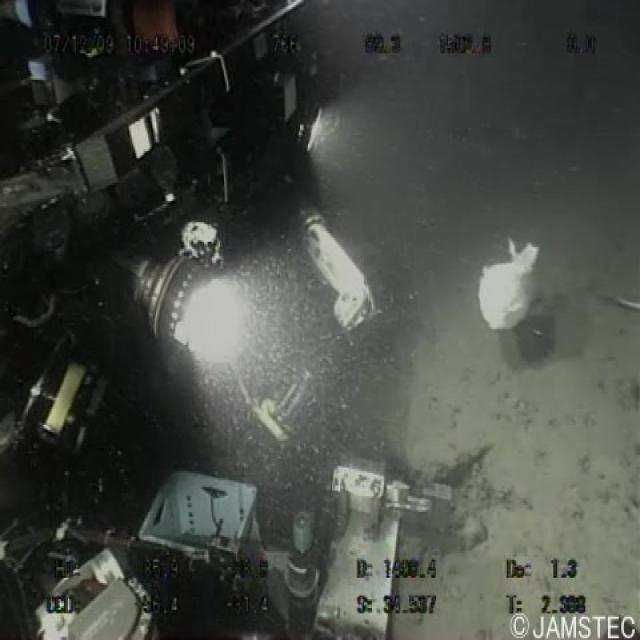plastic: (469, 228, 548, 338)
